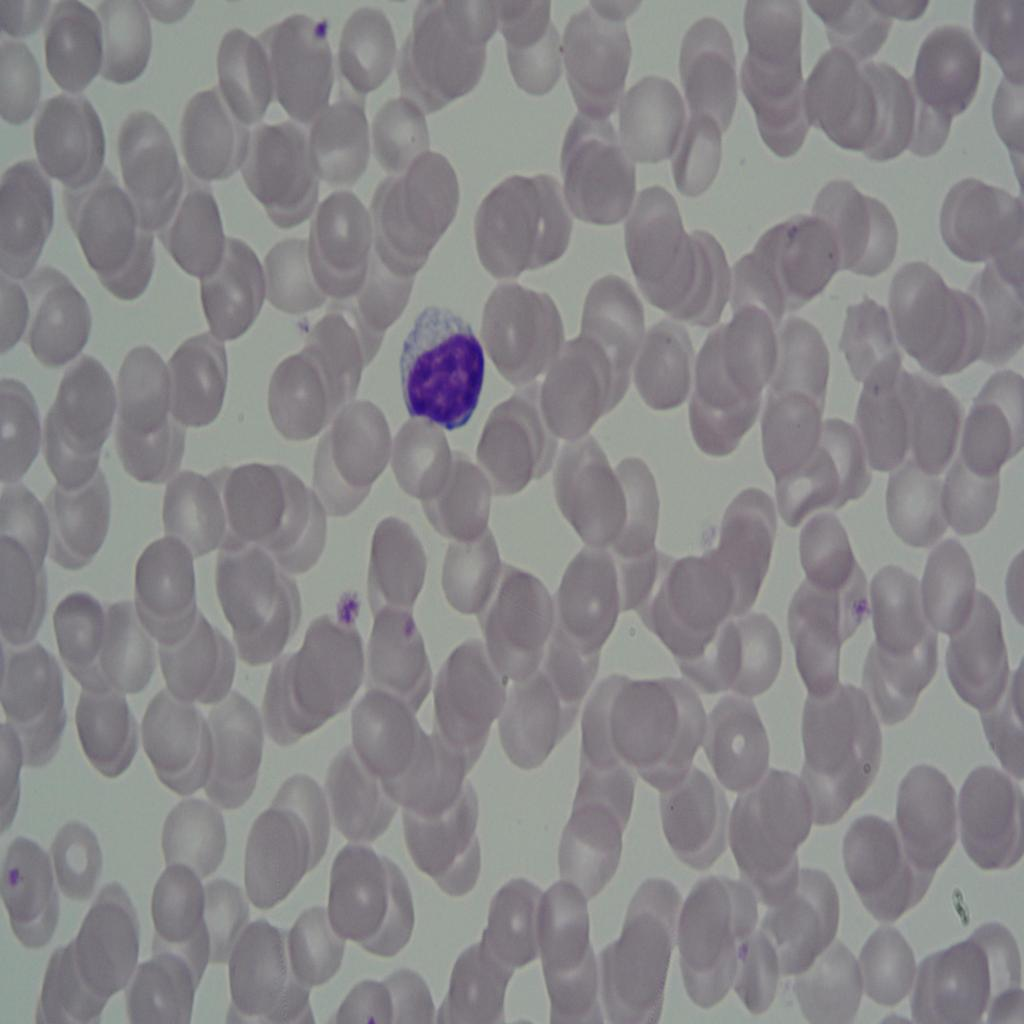Myeoblast: (392, 292, 480, 426)
Platelet: (332, 587, 397, 654), (302, 8, 336, 60)
